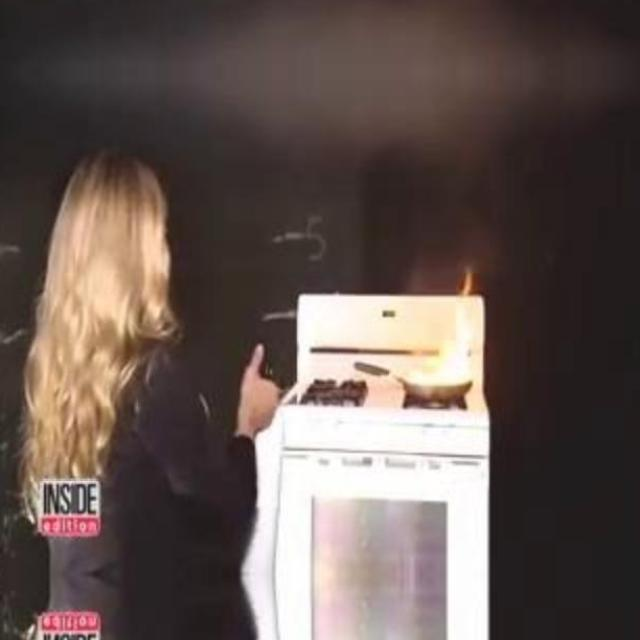fire: (20, 0, 640, 167)
smoke: (396, 276, 482, 391)
